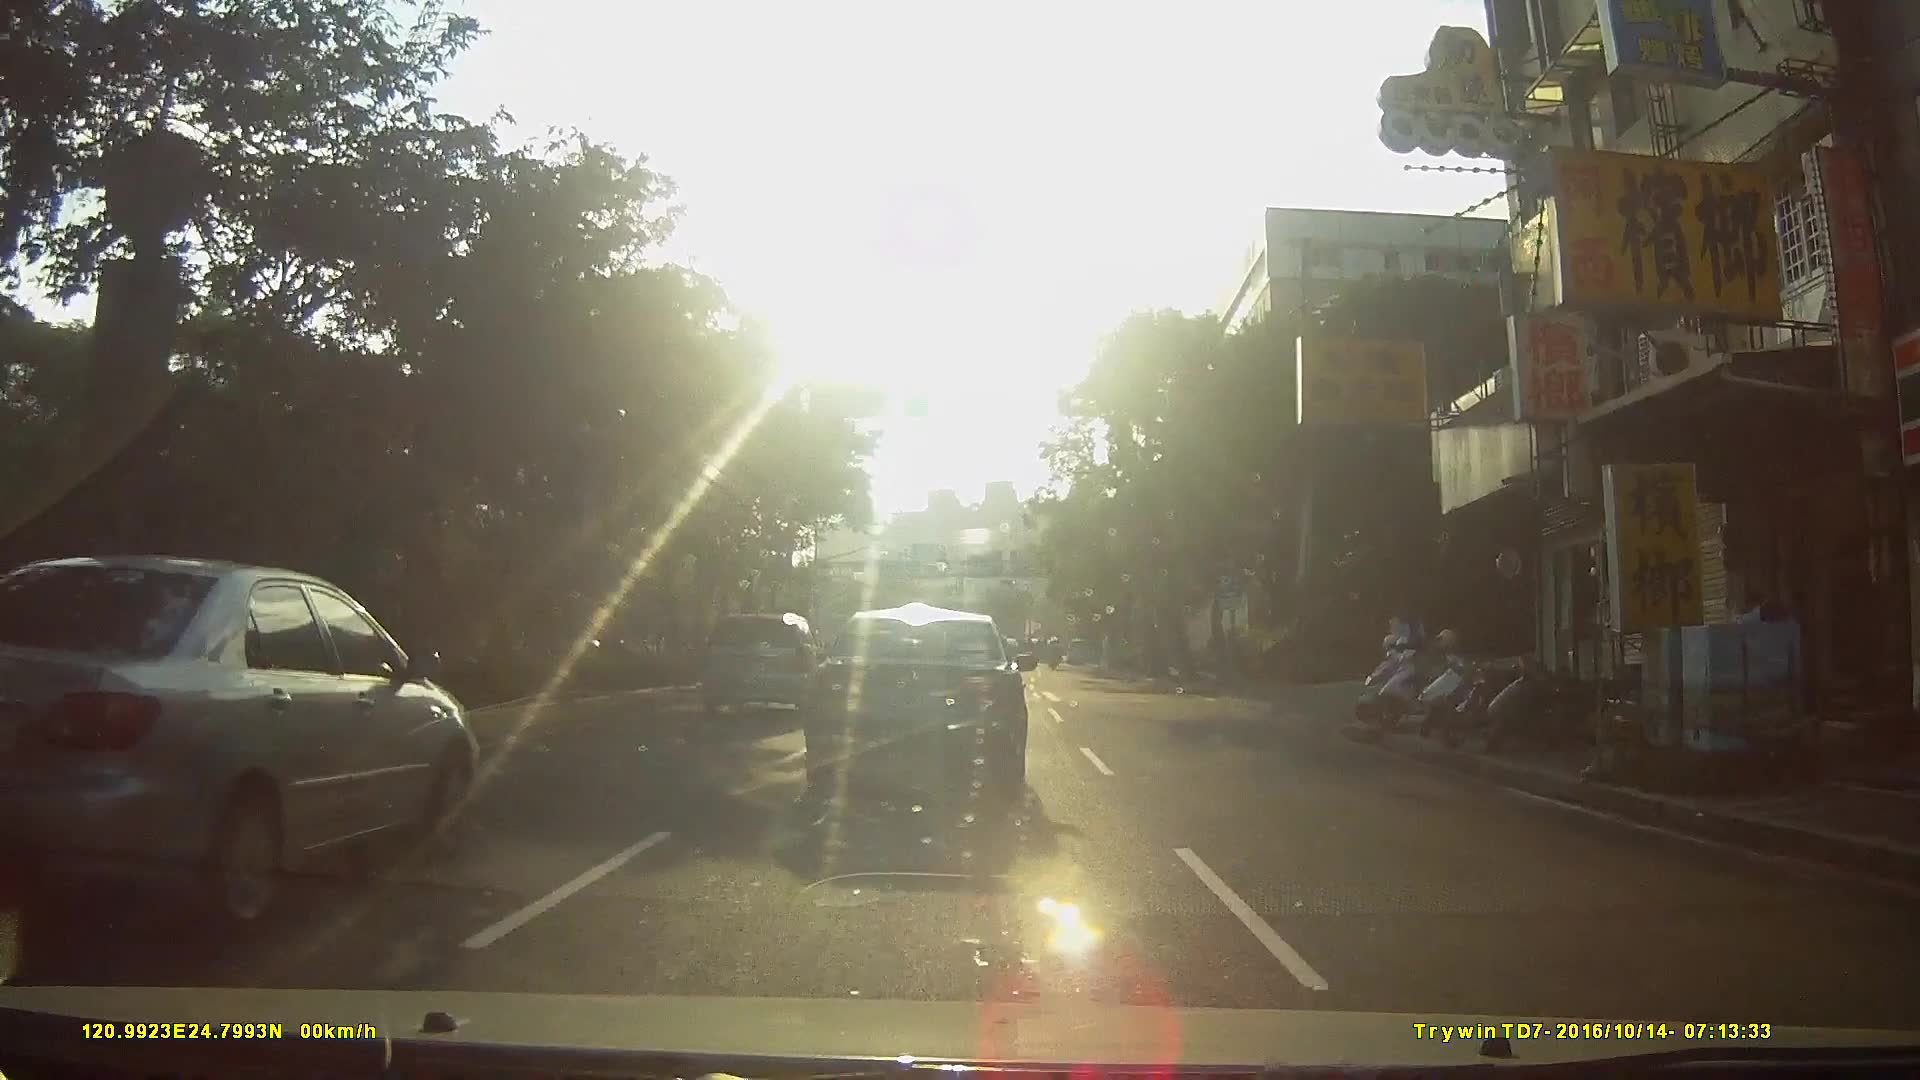pedestrian: (1732, 587, 1797, 743)
vehicle: (0, 556, 504, 926), (813, 605, 1051, 813), (706, 613, 829, 716), (1065, 638, 1100, 669)
